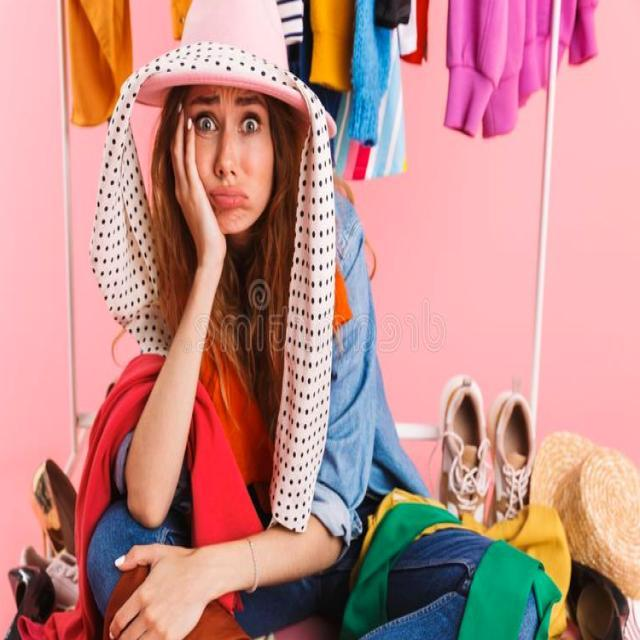clothes: (246, 156, 432, 534)
